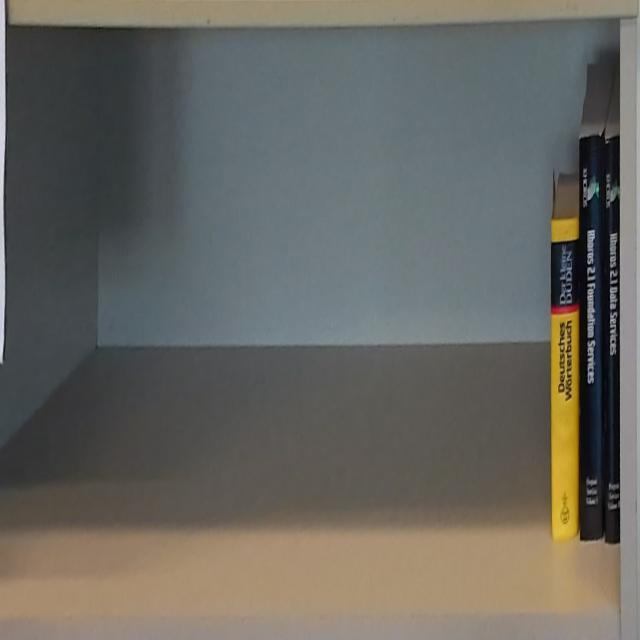Book Spine: (580, 134, 603, 541), (552, 218, 579, 537), (603, 133, 620, 545)
